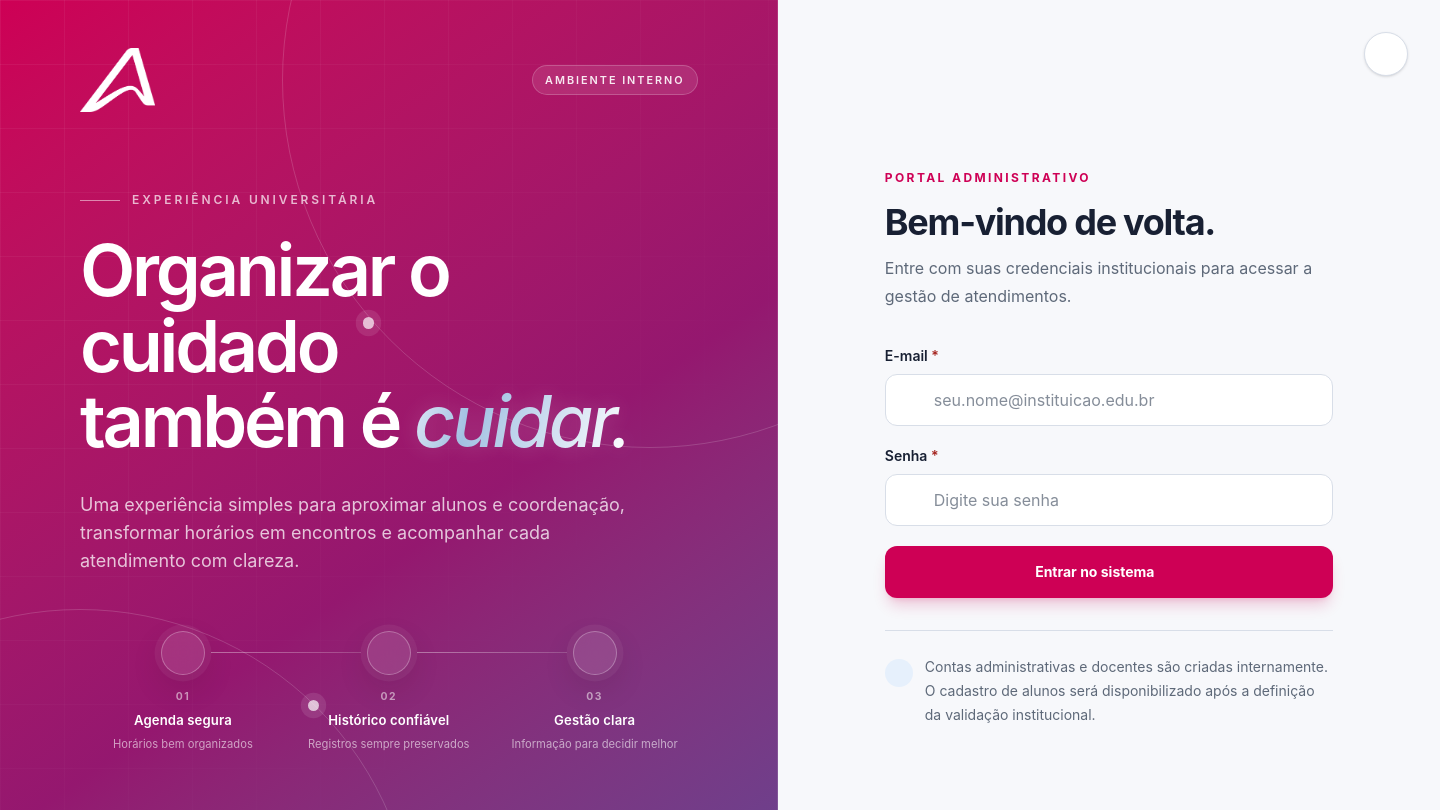
Test: LoginView › apresenta a mensagem segura quando as credenciais são inválidas
Type "admin@example.com" into the field labelled "E-mail *" at (1109, 400), box [885,374,1333,426]
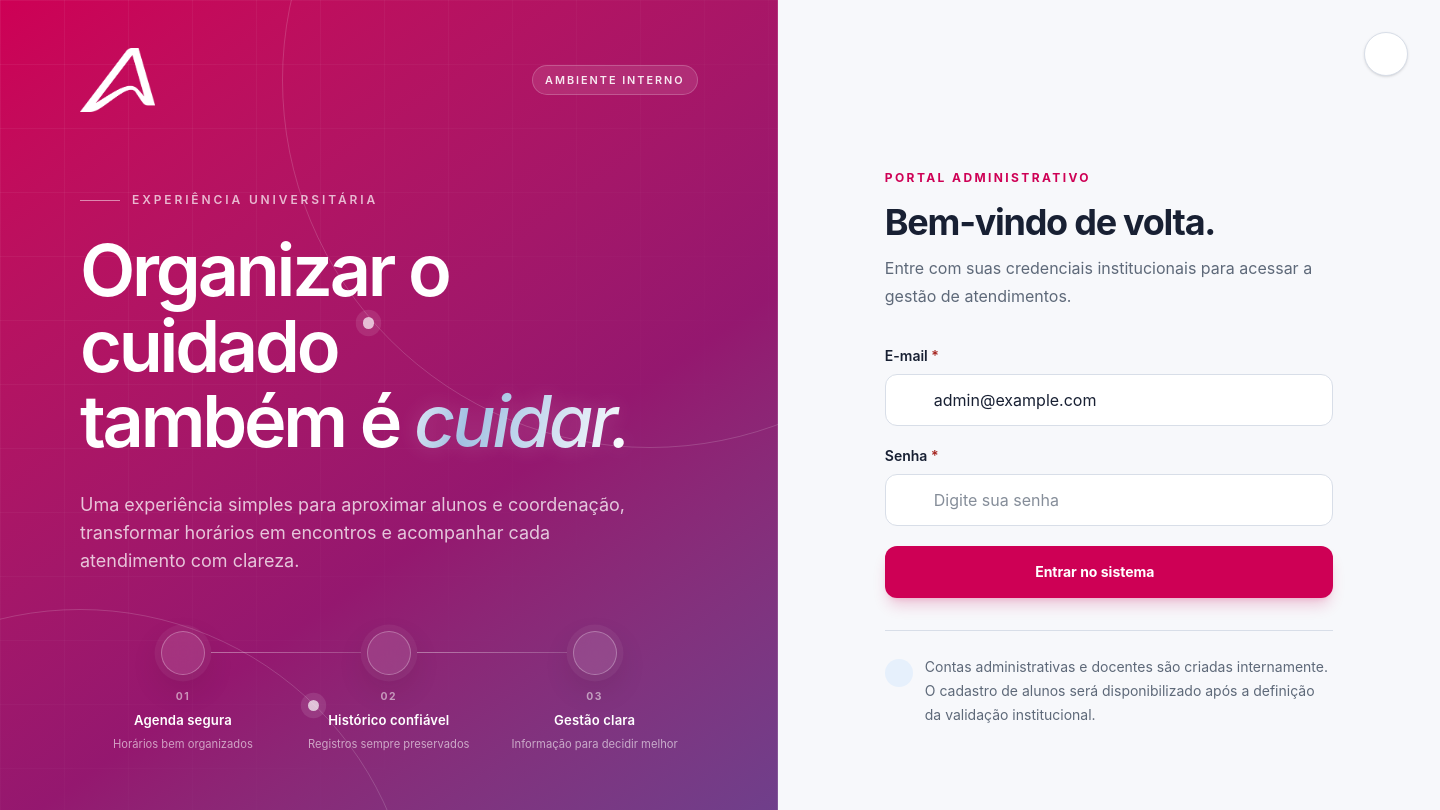
Type "wrong-password" into the password field labelled "Senha *" at (1109, 500), box [885,474,1333,526]
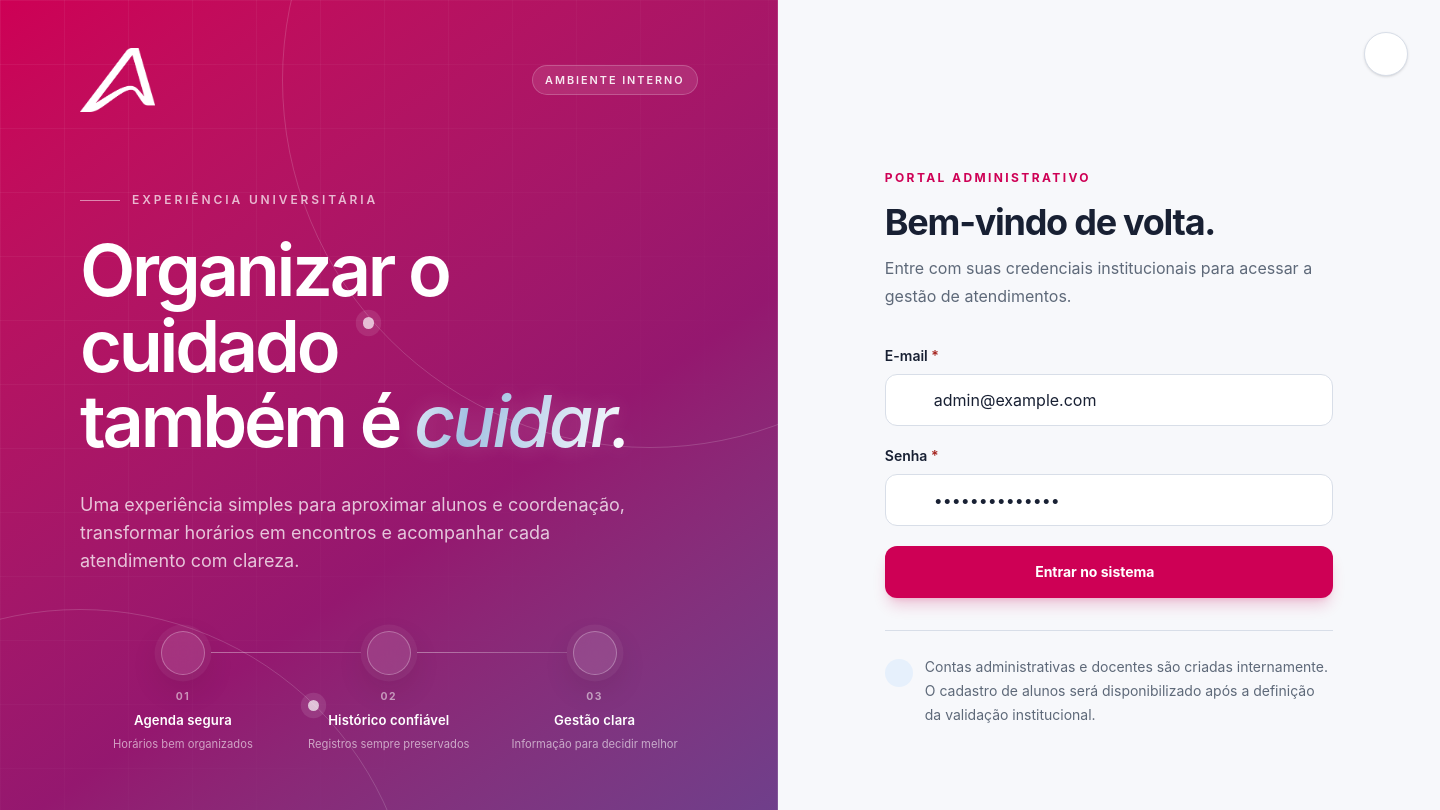
Submit the form, box [885,346,1333,598]
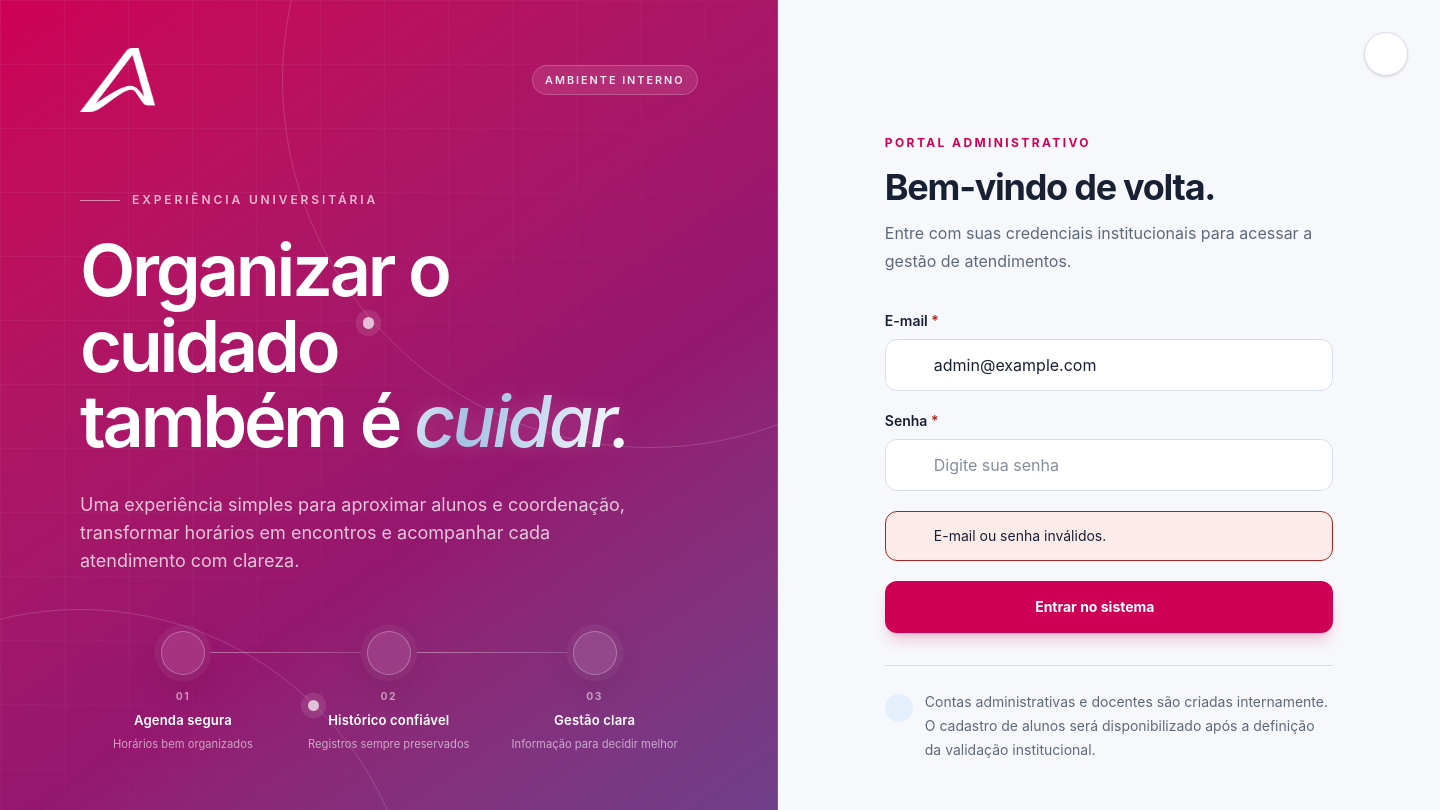
expect the message with test id "login-error" reads "E-mail ou senha inválidos.": met, box [934,527,1106,544]
expect the password field named "password" is empty: met, box [885,439,1333,491]
